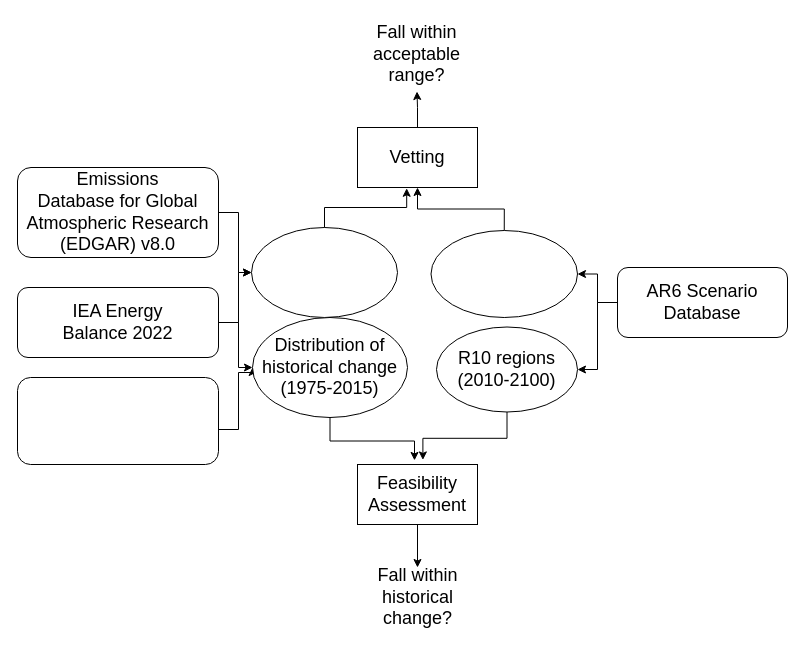
Image size: 805x647. Some labels were removed from this diagram. Each missing label, with the centre of its shape:
IEA Greenhouse Gas Emissions from Energy 2022: the point at 117,420
R5 regions + World (2019): the point at 504,274
Referecne value (2019): the point at 324,272
